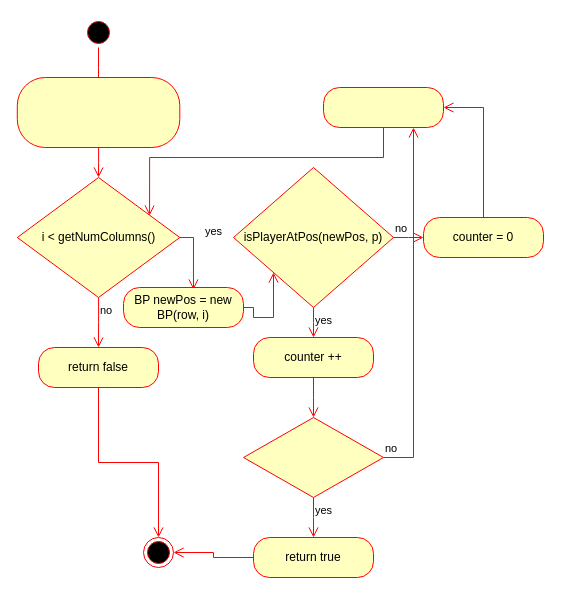
Some shapes in this 562 by 595 pixel diagram are drawn without their labels. Each missing label, with the centre of its shape:
counter == getNumToWin(): [313,457]
i++: [383,107]
int counter = 0; i = 0 row = pos.getRow();: [98,112]
